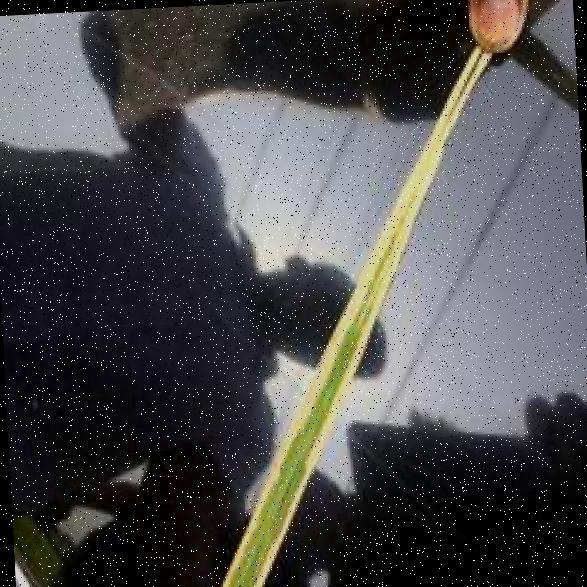Bacteria_Leaf_Blight: (250, 103, 458, 486)
